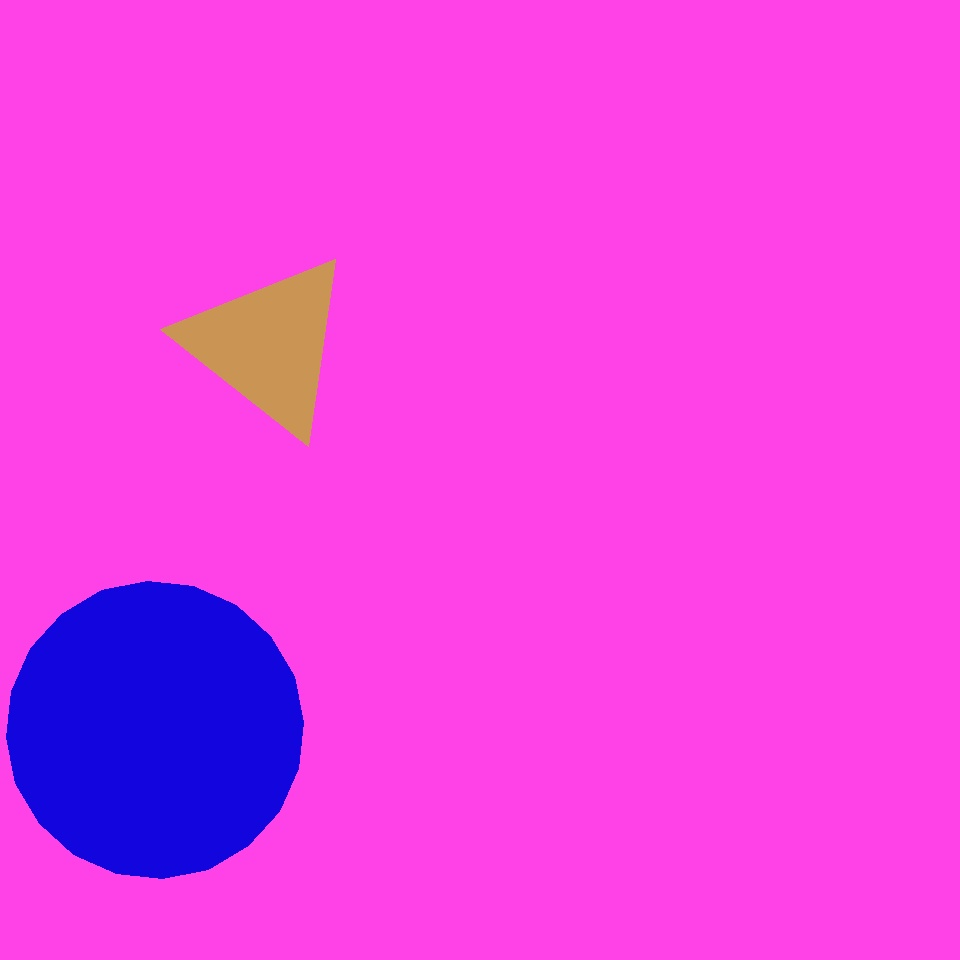circle: (181, 252, 356, 438)
triangle: (7, 582, 304, 878)
